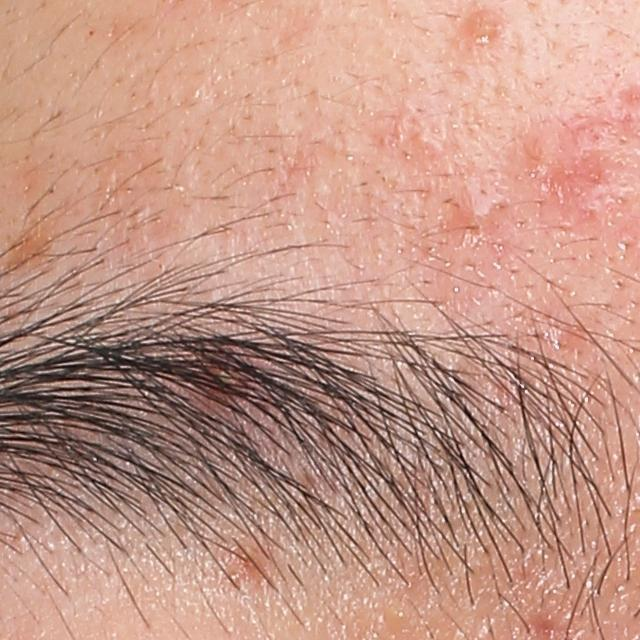papule: (461, 2, 502, 48)
